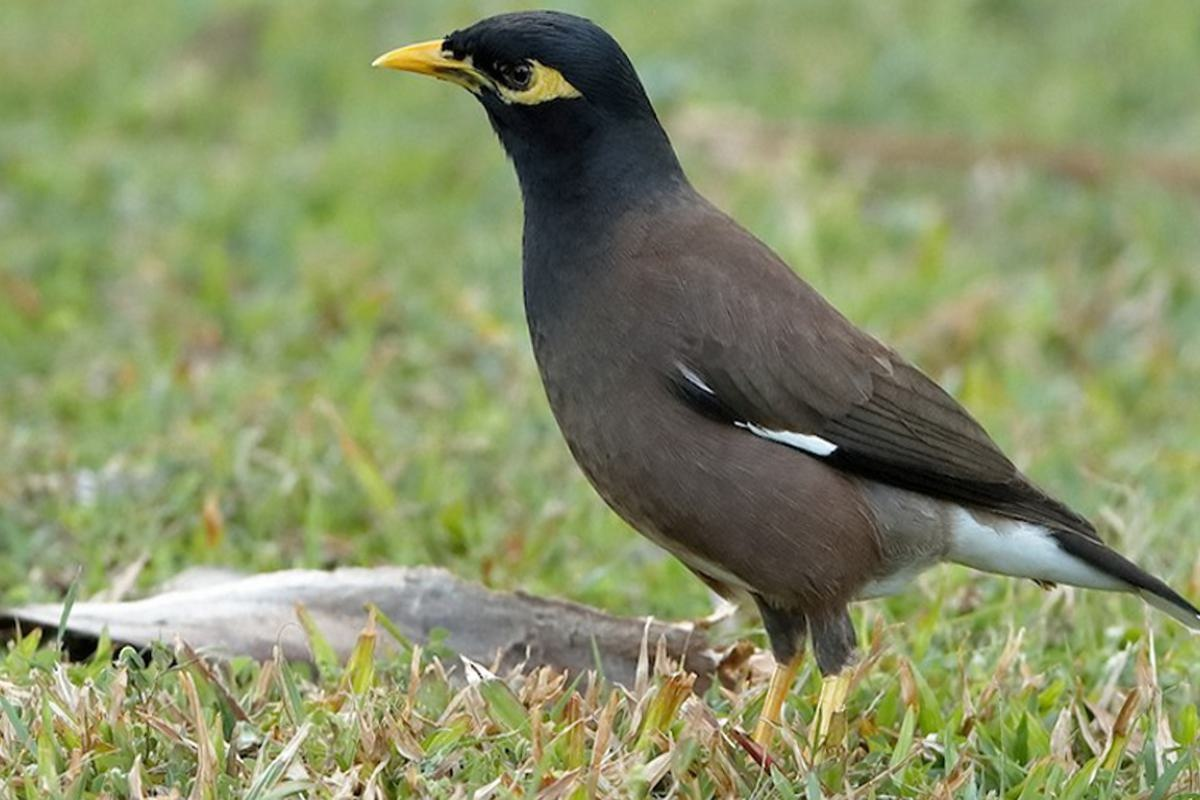myna: (374, 8, 1150, 758)
